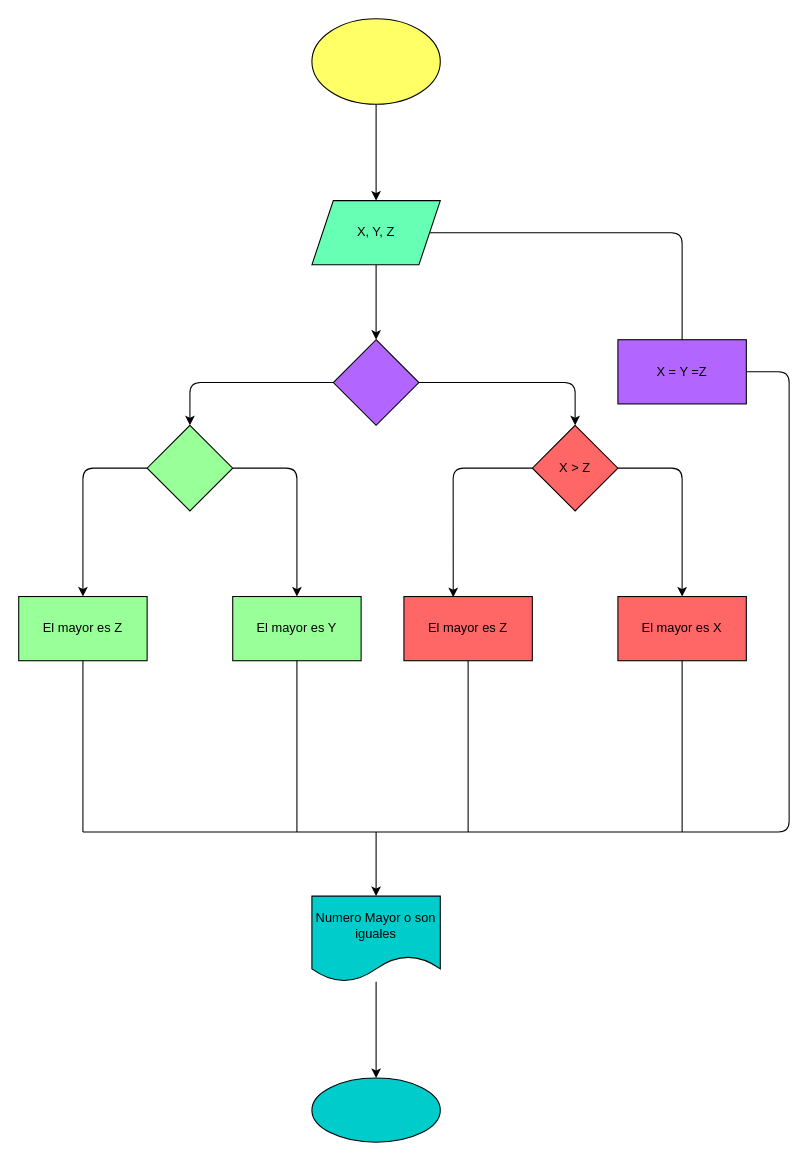
Some shapes in this 809 by 1161 pixel diagram are drawn without their labels. The centre of each missing label's shape, as x and y in pixels:
Fin: the point at 375,1109
Inicio: the point at 375,61
X > Y: the point at 375,382
Y > Z: the point at 189,467
